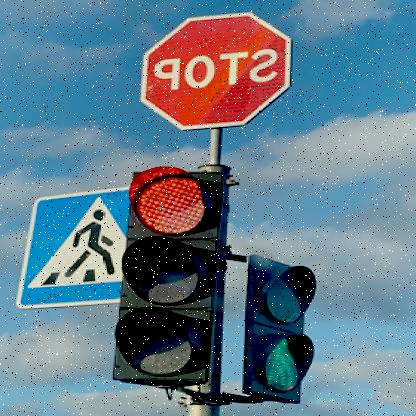crosswalk: (20, 184, 134, 308)
stop: (142, 10, 292, 130)
trafficlight: (114, 165, 228, 383), (244, 254, 316, 404)
